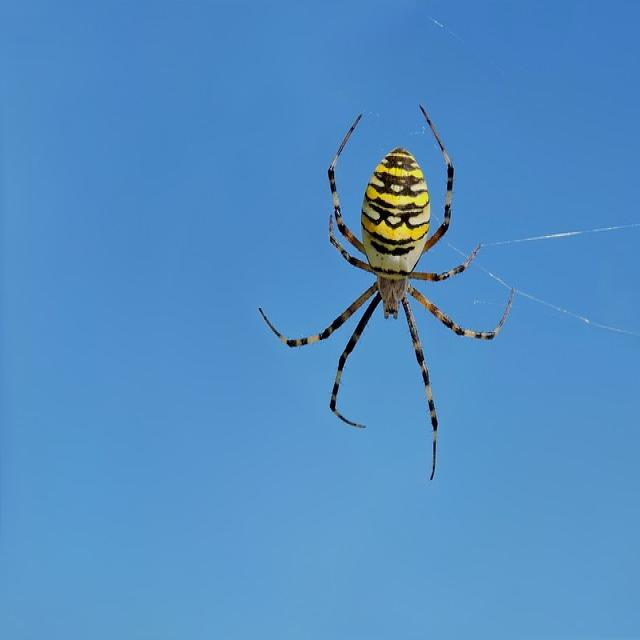spyder: (273, 116, 502, 451)
